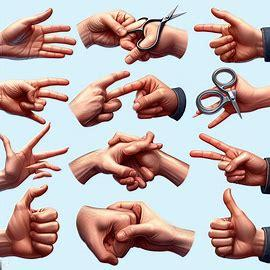Paper: (1, 7, 77, 63)
Stone: (74, 205, 138, 267)
